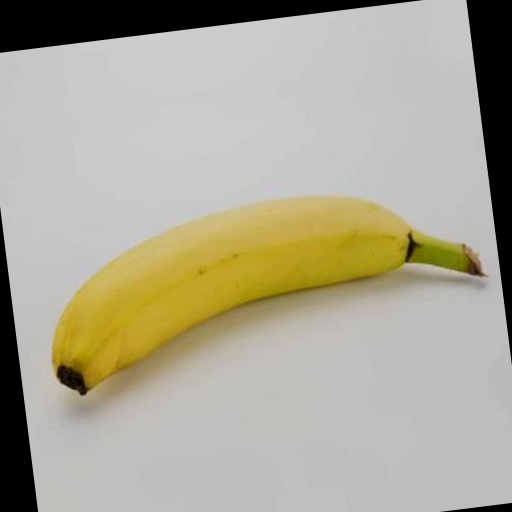fruit: (52, 197, 481, 394)
